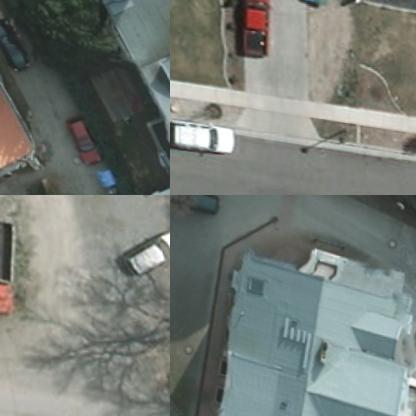car: (106, 217, 169, 286), (52, 108, 94, 162), (170, 117, 231, 153), (0, 10, 29, 70), (170, 195, 216, 214)
pickup: (228, 0, 272, 58)
truck: (0, 211, 20, 320)
